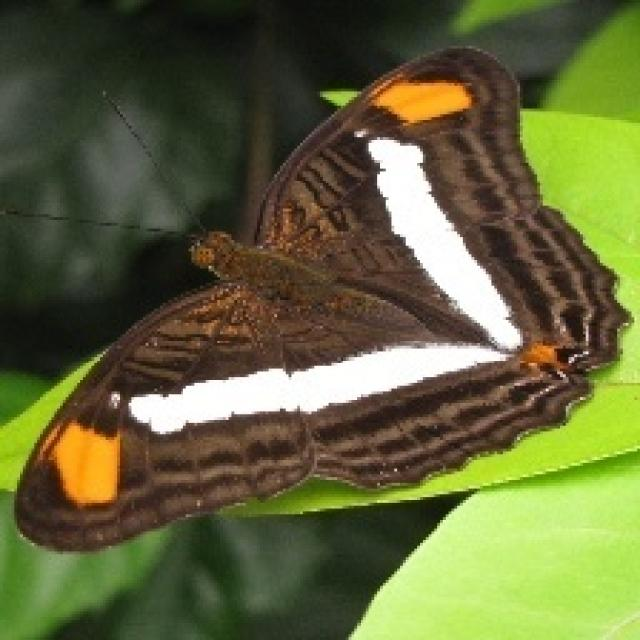butterfly: (0, 39, 634, 554)
